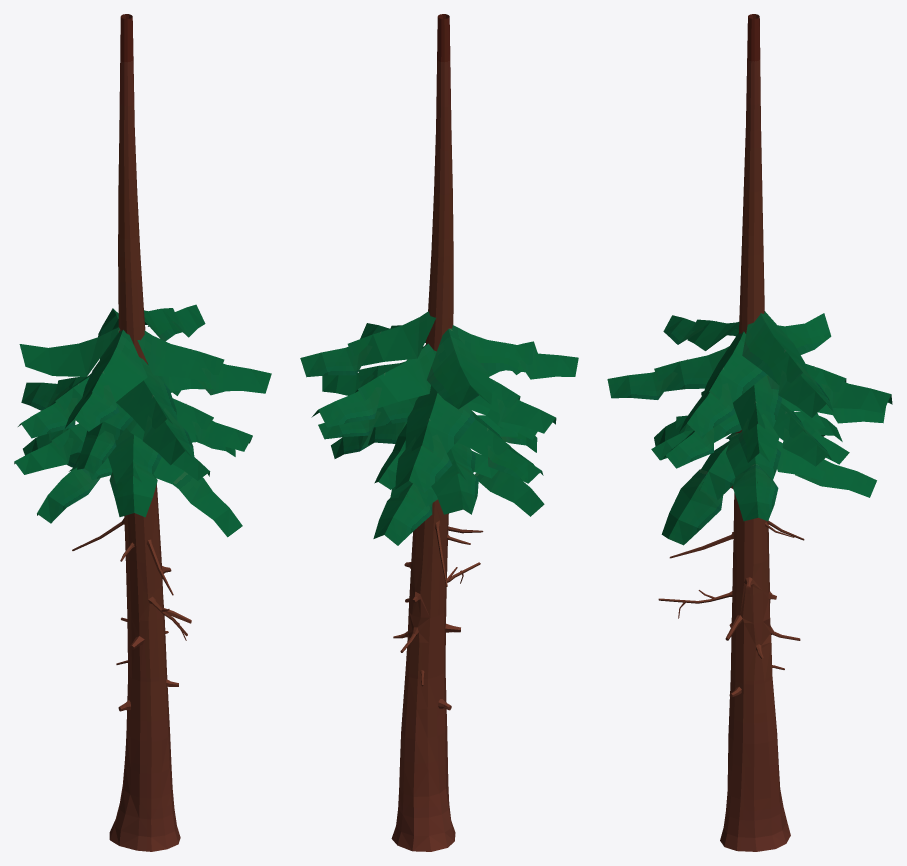
Rendered from Tree_02.fbx.
3 views of the same model, side by side, from view 1: azimuth 30°, elevation 25°; view 2: azimuth 150°, elevation 25°; view 3: azimuth 270°, elevation 25° (orthographic).
Parts seen in each view (by area): view 1: SM_Tree_02.mo; view 2: SM_Tree_02.mo; view 3: SM_Tree_02.mo.
Part boxes in pixels (box(x1,y1,x2,y2)): SM_Tree_02.mo: box(14, 14, 271, 851); SM_Tree_02.mo: box(300, 14, 578, 851); SM_Tree_02.mo: box(607, 14, 892, 851).
Size of the model in its own units: 523 by 1810 by 575.
